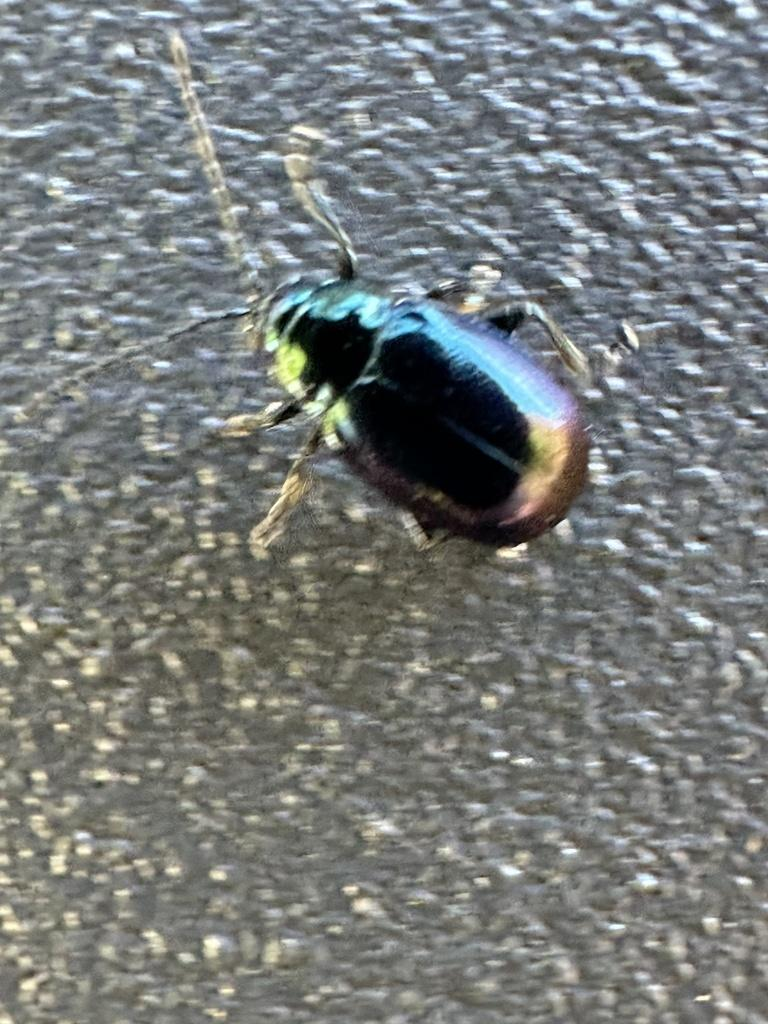flea_beetle: (0, 0, 768, 636)
